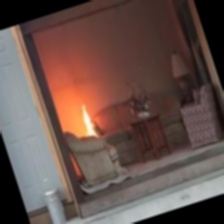fire: (72, 95, 99, 136)
